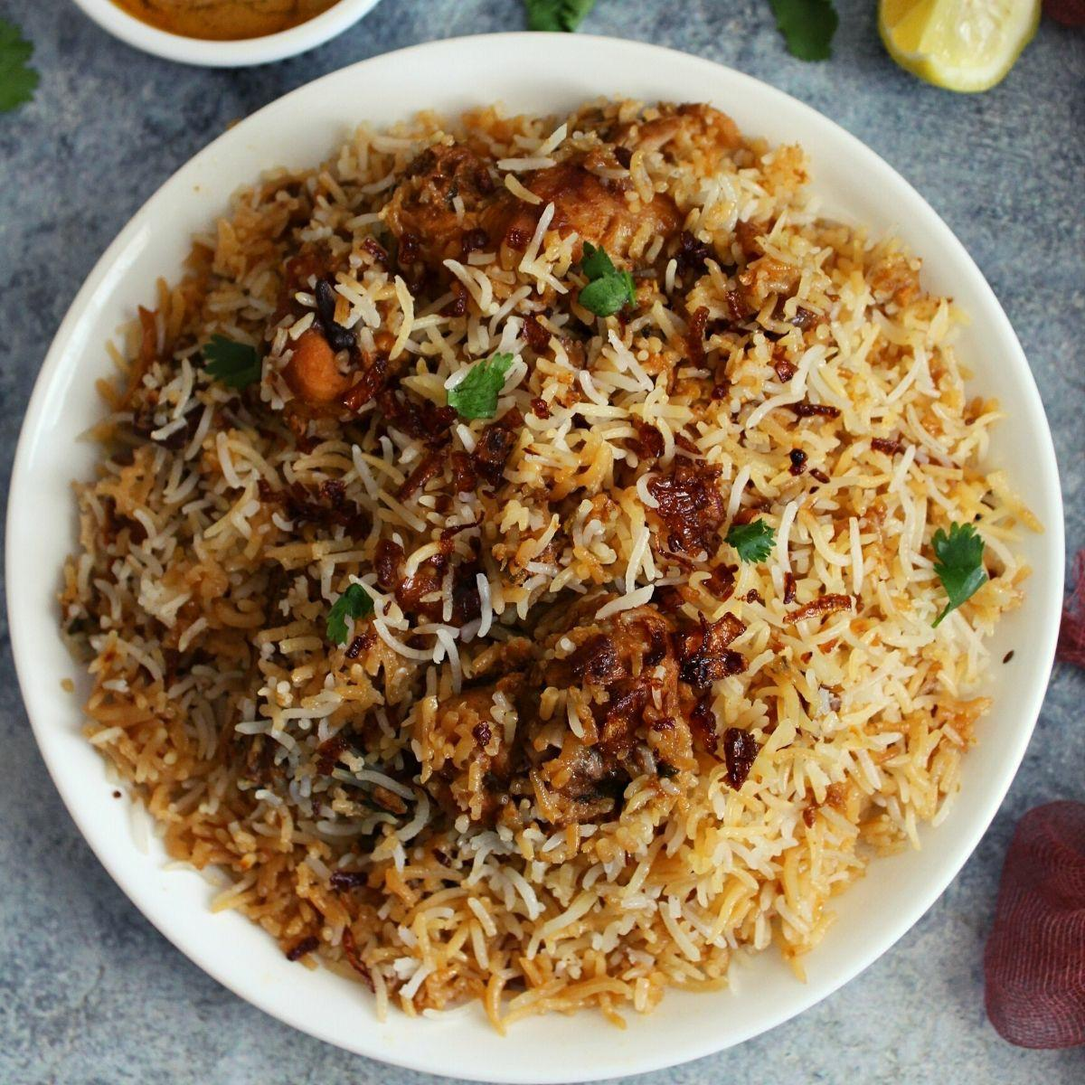Biryani: (60, 93, 1023, 1021)
